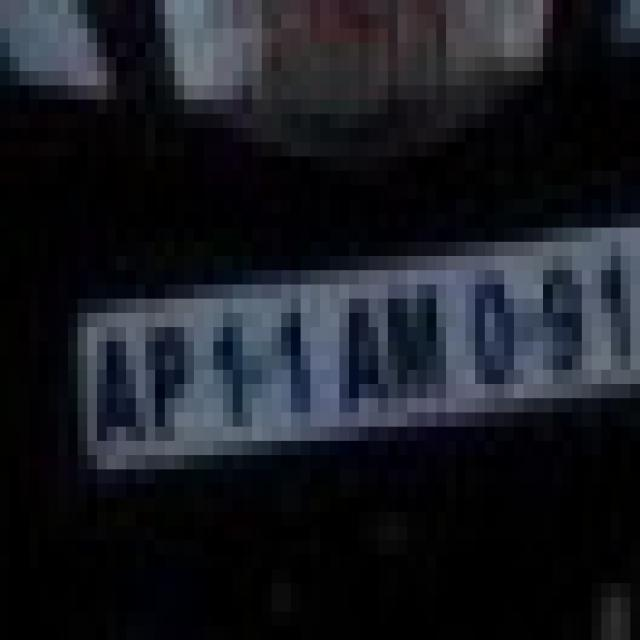0: (464, 268, 524, 400)
1: (201, 290, 262, 440), (268, 290, 324, 430), (591, 245, 640, 377)
9: (533, 245, 596, 392)
A: (83, 312, 146, 457), (336, 285, 392, 425)
M: (384, 264, 451, 410)
P: (144, 304, 196, 446)
